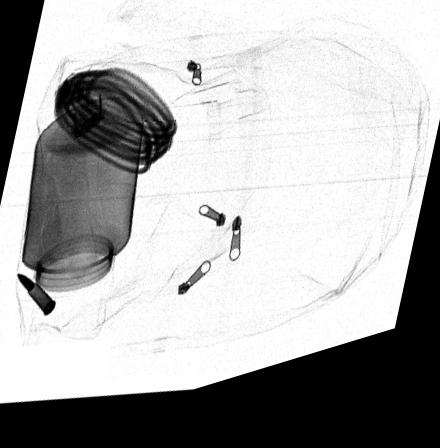Bullet: (16, 271, 56, 319)
